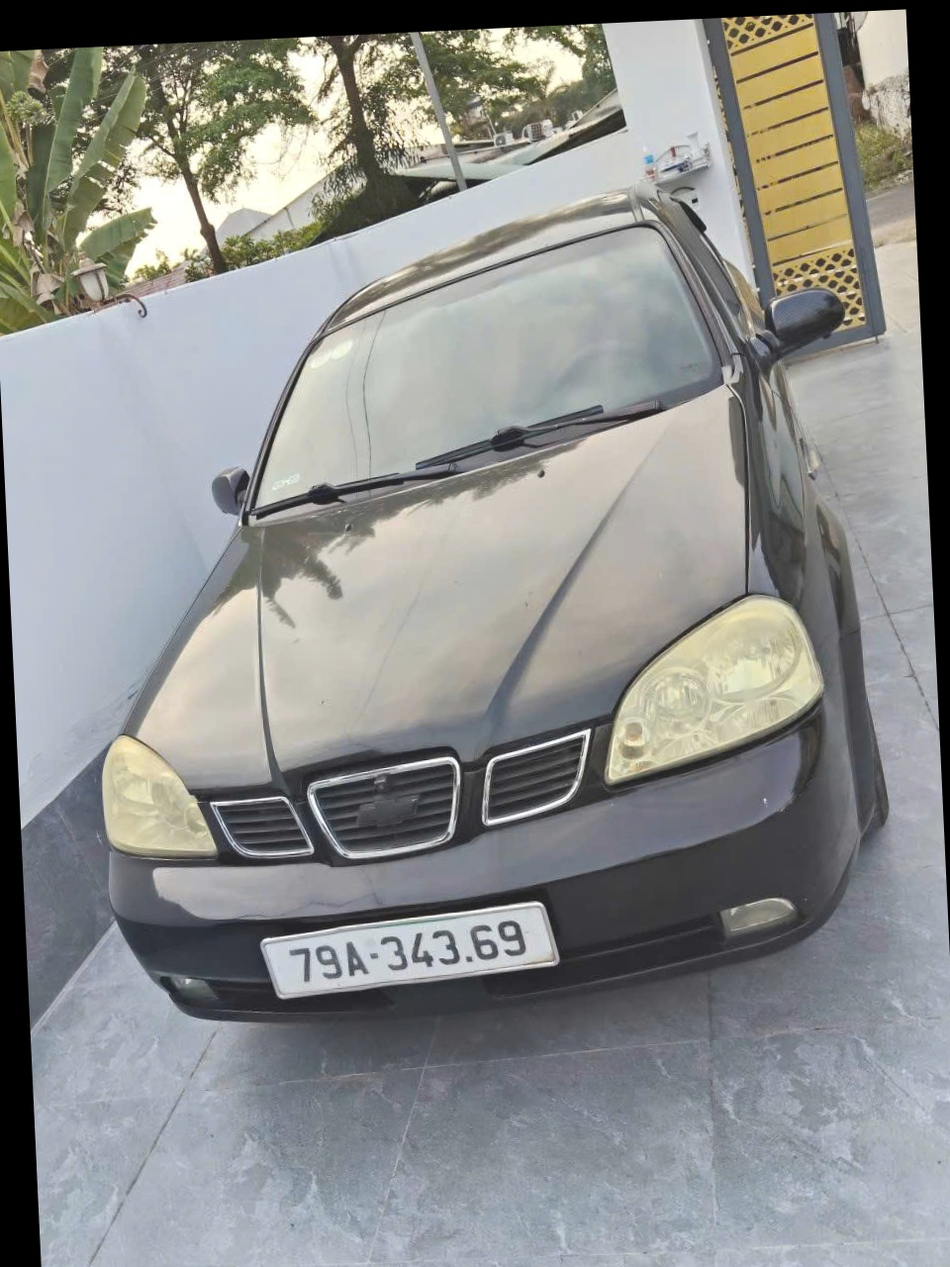Bien-so: (261, 908, 555, 1009)
